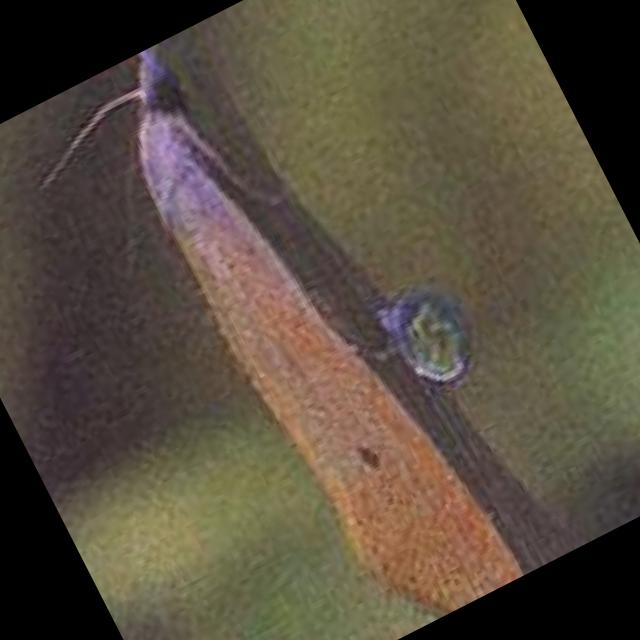stem-borer: (70, 12, 510, 640)
